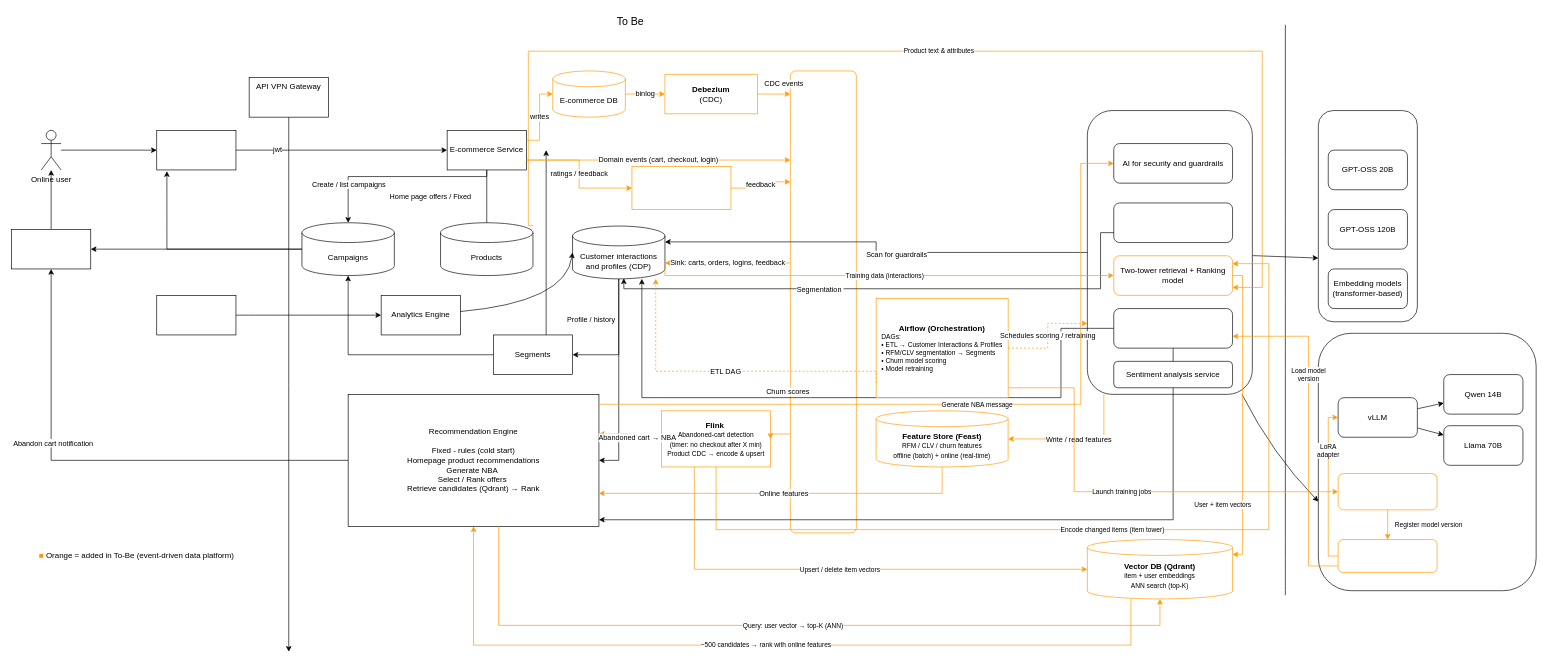
This 1548x669 diagram has some shape labels left out. The box of each missing label's shape, as (x1, y1, x2, y2) in pixels:
AI/ML Layer: (1087, 110, 1252, 394)
Channel Mobile / Website: (156, 130, 236, 170)
Channel Whatsapp: (11, 229, 91, 269)
Churn detection model (Domain-specific): (1113, 308, 1233, 348)
Customer Insights Dashboard: (156, 295, 236, 335)
Feedback Service ratings · text (CSAT) sentiment: (631, 166, 731, 210)
GCP GPU Hyperscaler: (1318, 333, 1536, 591)
Groq Cloud: (1318, 110, 1417, 322)
Kafka Event Backbone topics: cart, checkout, login, feedback, cdc.*: (790, 70, 856, 533)
Model registry (MLflow): (1337, 539, 1437, 573)
RFM, CLV, Segmentation models: (1113, 202, 1233, 243)
Training cluster (GKE) CPU + GPU node pools: (1337, 473, 1437, 510)
